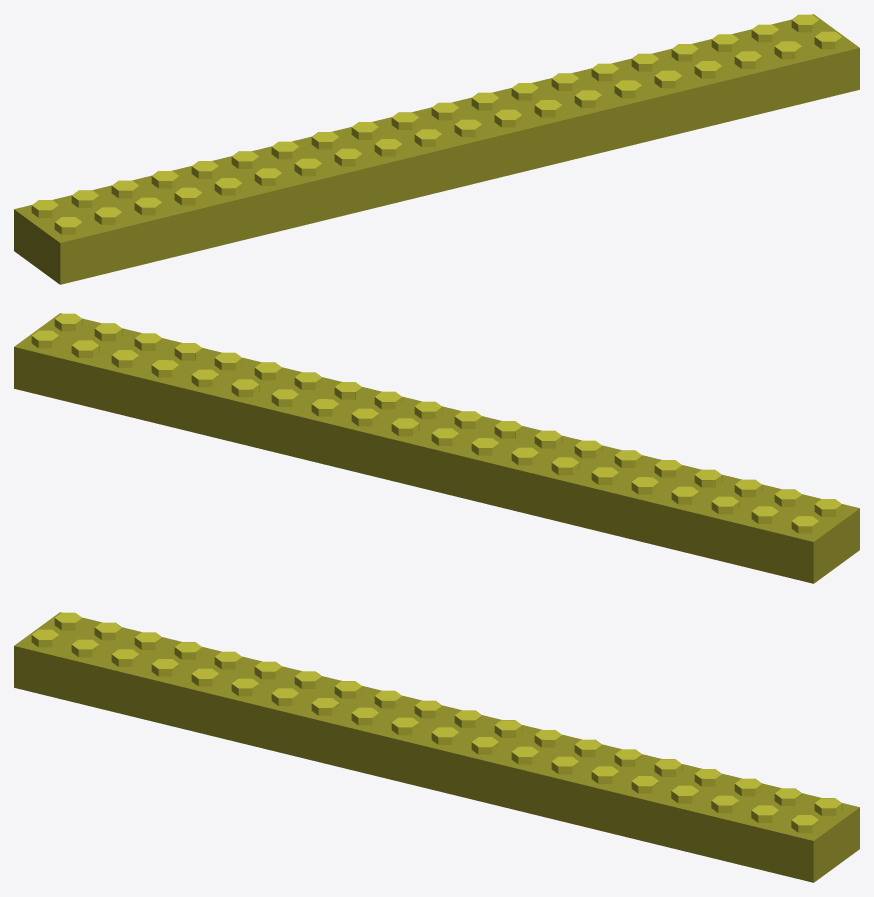
The model's file is meio_fio.obj.
The picture shows the model from 3 angles, top to bottom: view 1: azimuth 30°, elevation 25°; view 2: azimuth 150°, elevation 25°; view 3: azimuth 330°, elevation 25°; orthographic projection.
Parts seen in each view (by area): view 1: Cylinder.001; view 2: Cylinder.001; view 3: Cylinder.001.
Part boxes in pixels (x1,y1,x2,y2): Cylinder.001: (14, 14, 859, 284); Cylinder.001: (14, 313, 859, 583); Cylinder.001: (14, 612, 859, 882).
Size of the model in its own units: 20 by 1.18 by 2.
1 material, 1 textured.
